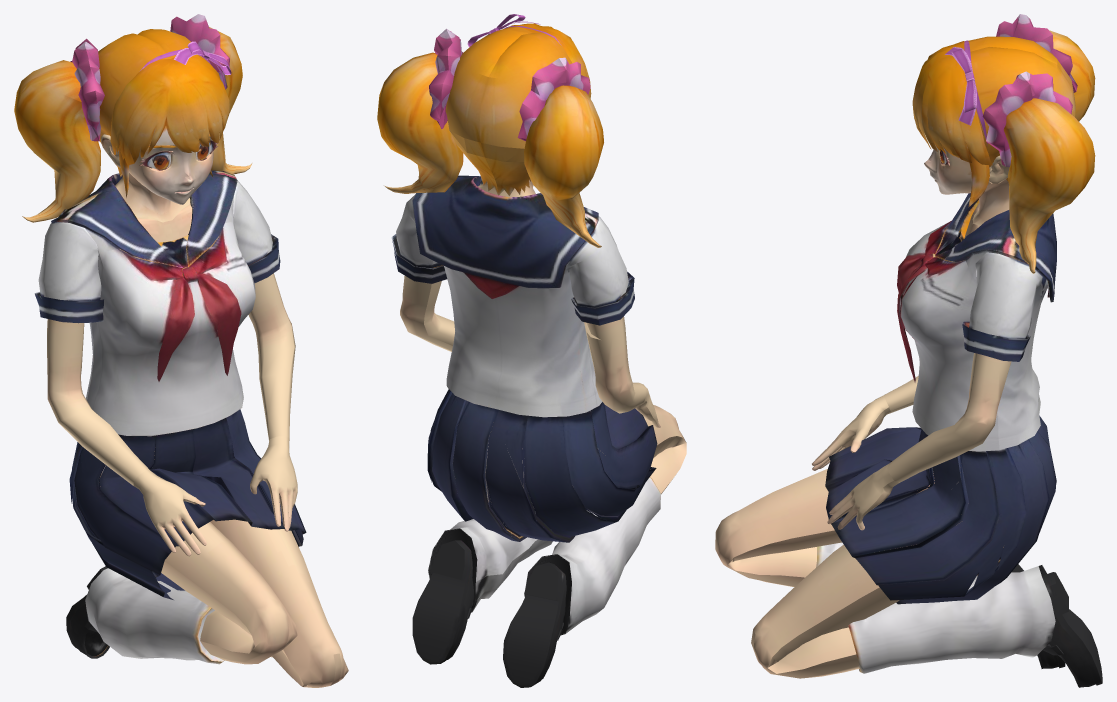
Rendered from fuck_POS.fbx.
3 views of the same model, side by side, from view 1: azimuth 30°, elevation 25°; view 2: azimuth 150°, elevation 25°; view 3: azimuth 270°, elevation 25° (orthographic). The views are drawn at different scales.
Visible parts, largest first — view 1: defaultMateria1; view 2: defaultMateria1; view 3: defaultMateria1.
Part boxes in pixels (<box>): defaultMateria1: <box>14,14,348,687</box>; defaultMateria1: <box>377,14,686,687</box>; defaultMateria1: <box>715,14,1102,687</box>.
Bounding box in the file's own units: 2.74 × 6.9 × 3.75.
4 materials, 4 textured.
